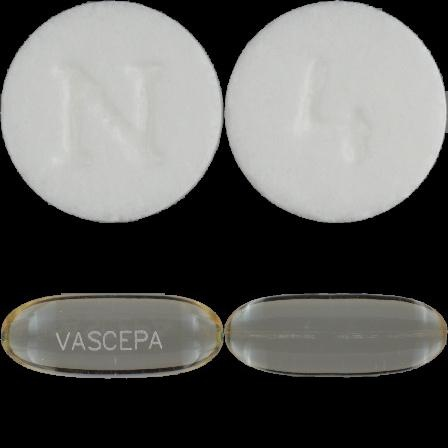52584-418: (0, 0, 224, 224)
